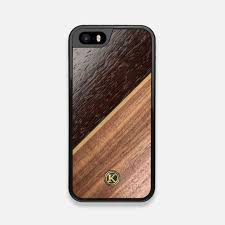iphone5: (65, 22, 158, 205)
